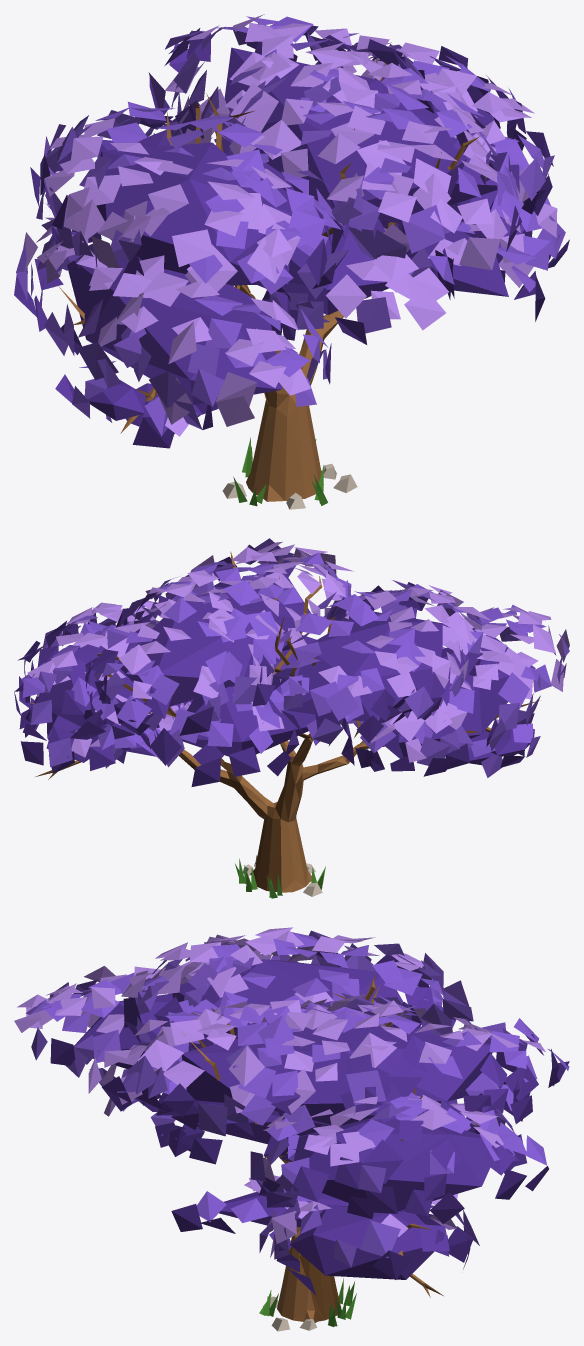
The model's file is jacaranda_var_bloom.glb.
3 renders of one model, top to bottom at view 1: azimuth 30°, elevation 25°; view 2: azimuth 150°, elevation 25°; view 3: azimuth 270°, elevation 25°, orthographic. The views are drawn at different scales.
Parts seen in each view (by area): view 1: jacaranda_var_bloom; view 2: jacaranda_var_bloom; view 3: jacaranda_var_bloom.
Boxes of the visible parts, x1,y1,x2,y2 form: jacaranda_var_bloom: (14, 14, 569, 509); jacaranda_var_bloom: (14, 538, 569, 898); jacaranda_var_bloom: (14, 927, 569, 1331).
Size of the model in its own units: 9.18 by 6.14 by 9.34.
